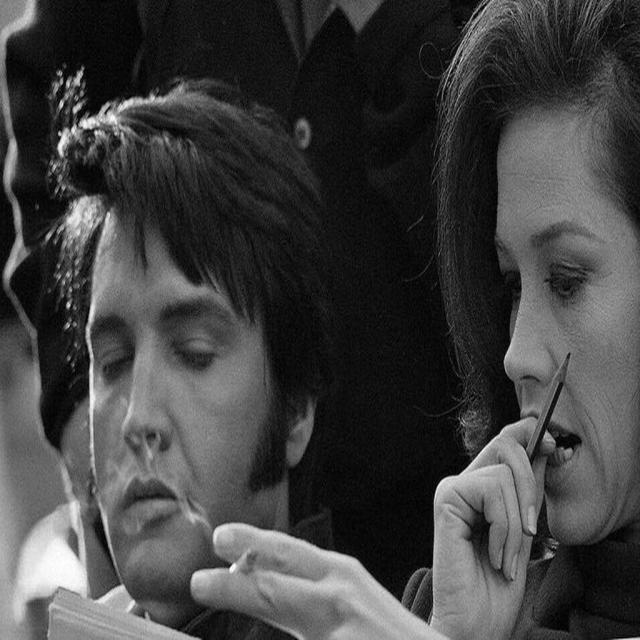smoking: (194, 28, 636, 634)
